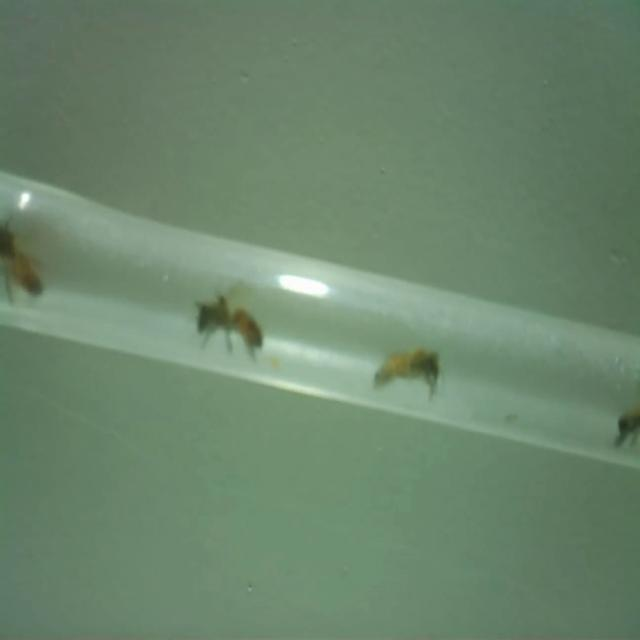Honeybee-Detection: (194, 280, 263, 361), (372, 340, 446, 402), (0, 216, 44, 304), (613, 385, 640, 450)
